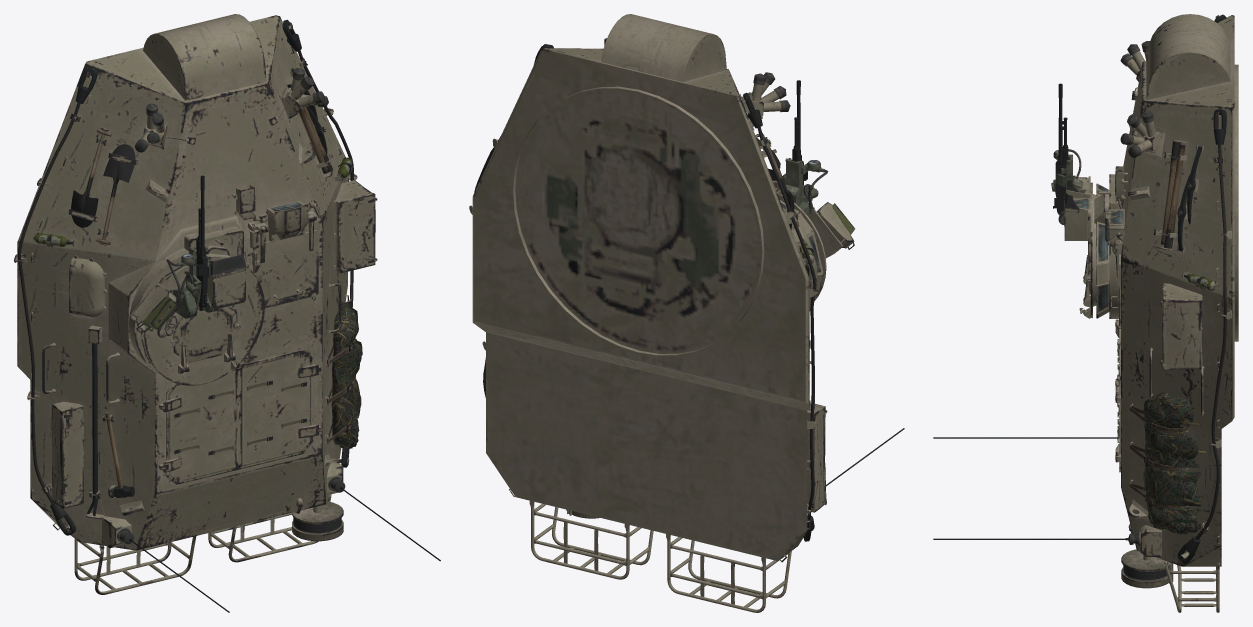
File: Turret_01.glb
3 renders of one model, left to right at view 1: azimuth 30°, elevation 25°; view 2: azimuth 150°, elevation 25°; view 3: azimuth 270°, elevation 25°, orthographic. The views are drawn at different scales.
Parts seen in each view (by area): view 1: set_0_group_1, set_0_group_0; view 2: set_0_group_1; view 3: set_0_group_1, set_0_group_0.
Part boxes in pixels (x1,y1,x2,y2): set_0_group_1: (14, 14, 440, 612); set_0_group_0: (332, 301, 362, 448); set_0_group_1: (469, 14, 904, 612); set_0_group_1: (933, 14, 1238, 612); set_0_group_0: (1143, 392, 1207, 534).
Size of the model in its own units: 2.97 by 4.46 by 2.34.
2 materials, 2 textured.
